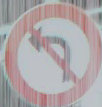Don't turn left: (7, 9, 89, 96)
